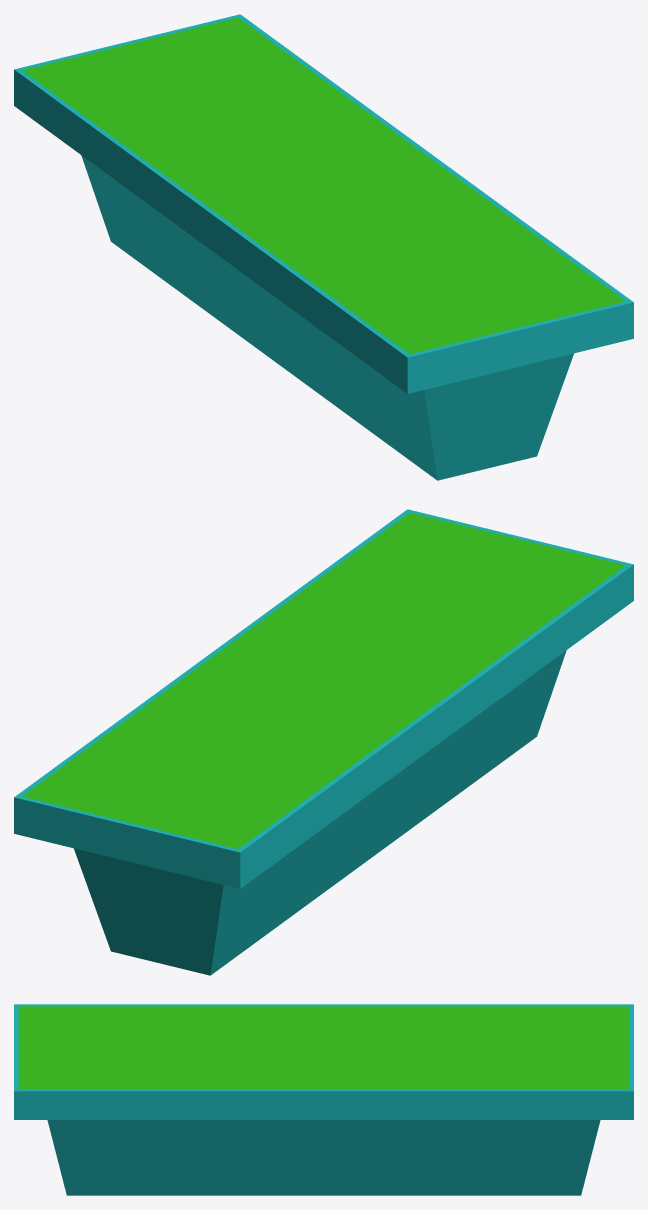
Rendered from Table_L.fbx.
3 renders of one model, top to bottom at view 1: azimuth 30°, elevation 25°; view 2: azimuth 150°, elevation 25°; view 3: azimuth 270°, elevation 25°, orthographic. The views are drawn at different scales.
Visible parts, largest first — view 1: Table_L; view 2: Table_L; view 3: Table_L.
Part boxes in pixels (<box>): Table_L: <box>14,14,633,480</box>; Table_L: <box>14,509,633,975</box>; Table_L: <box>14,1004,633,1195</box>.
Size of the model in its own units: 136 by 93.96 by 411.
